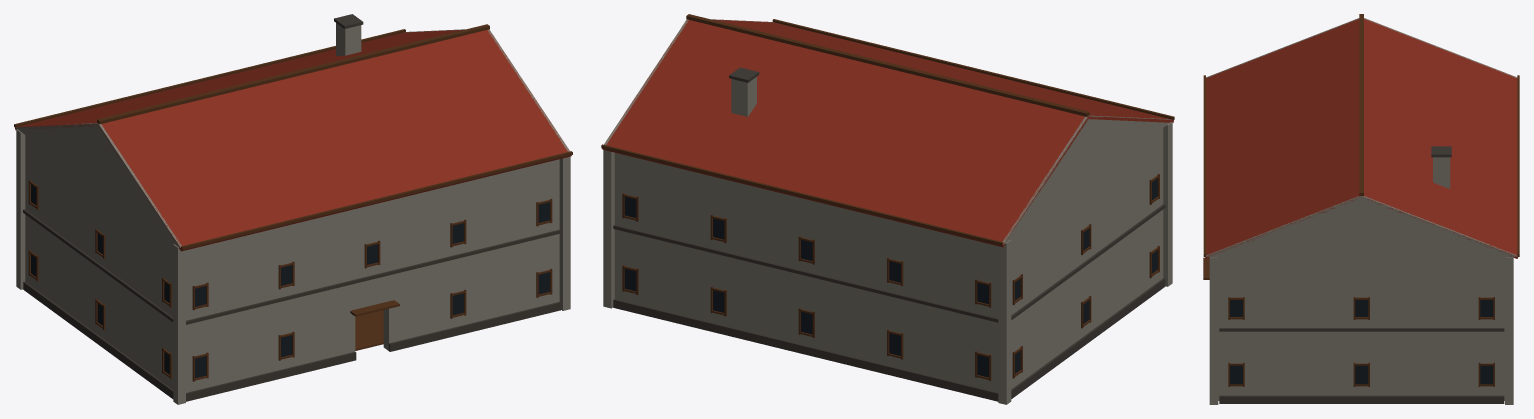
File: guild_hall.glb
3 views of the same model, side by side, from view 1: azimuth 30°, elevation 25°; view 2: azimuth 150°, elevation 25°; view 3: azimuth 270°, elevation 25° (orthographic). The views are drawn at different scales.
Parts seen in each view (by area): view 1: guild_hall_stone, guild_hall_roof, guild_hall_timber, guild_hall_plinth, guild_hall_glass; view 2: guild_hall_stone, guild_hall_roof, guild_hall_timber, guild_hall_plinth, guild_hall_glass; view 3: guild_hall_roof, guild_hall_stone, guild_hall_plinth, guild_hall_timber, guild_hall_glass.
Part boxes in pixels (x1,y1,x2,y2): guild_hall_stone: (15, 23, 570, 404); guild_hall_roof: (15, 29, 571, 251); guild_hall_timber: (14, 24, 572, 381); guild_hall_plinth: (23, 14, 560, 401); guild_hall_glass: (31, 184, 549, 378); guild_hall_stone: (603, 19, 1172, 404); guild_hall_roof: (602, 19, 1173, 247); guild_hall_timber: (601, 14, 1174, 381); guild_hall_plinth: (613, 67, 1165, 401); guild_hall_glass: (624, 178, 1157, 377); guild_hall_roof: (1205, 18, 1518, 258); guild_hall_stone: (1206, 18, 1517, 404); guild_hall_plinth: (1219, 146, 1504, 403); guild_hall_timber: (1203, 14, 1519, 386); guild_hall_glass: (1230, 300, 1493, 384).
Size of the model in its own units: 20.92 by 11.46 by 15.54.
